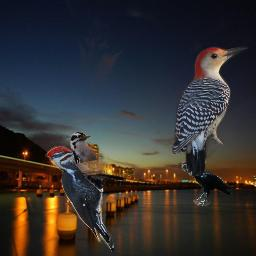Crow: (181, 161, 233, 206)
Woodpecker: (172, 46, 249, 176), (45, 146, 114, 252), (70, 132, 126, 192)
